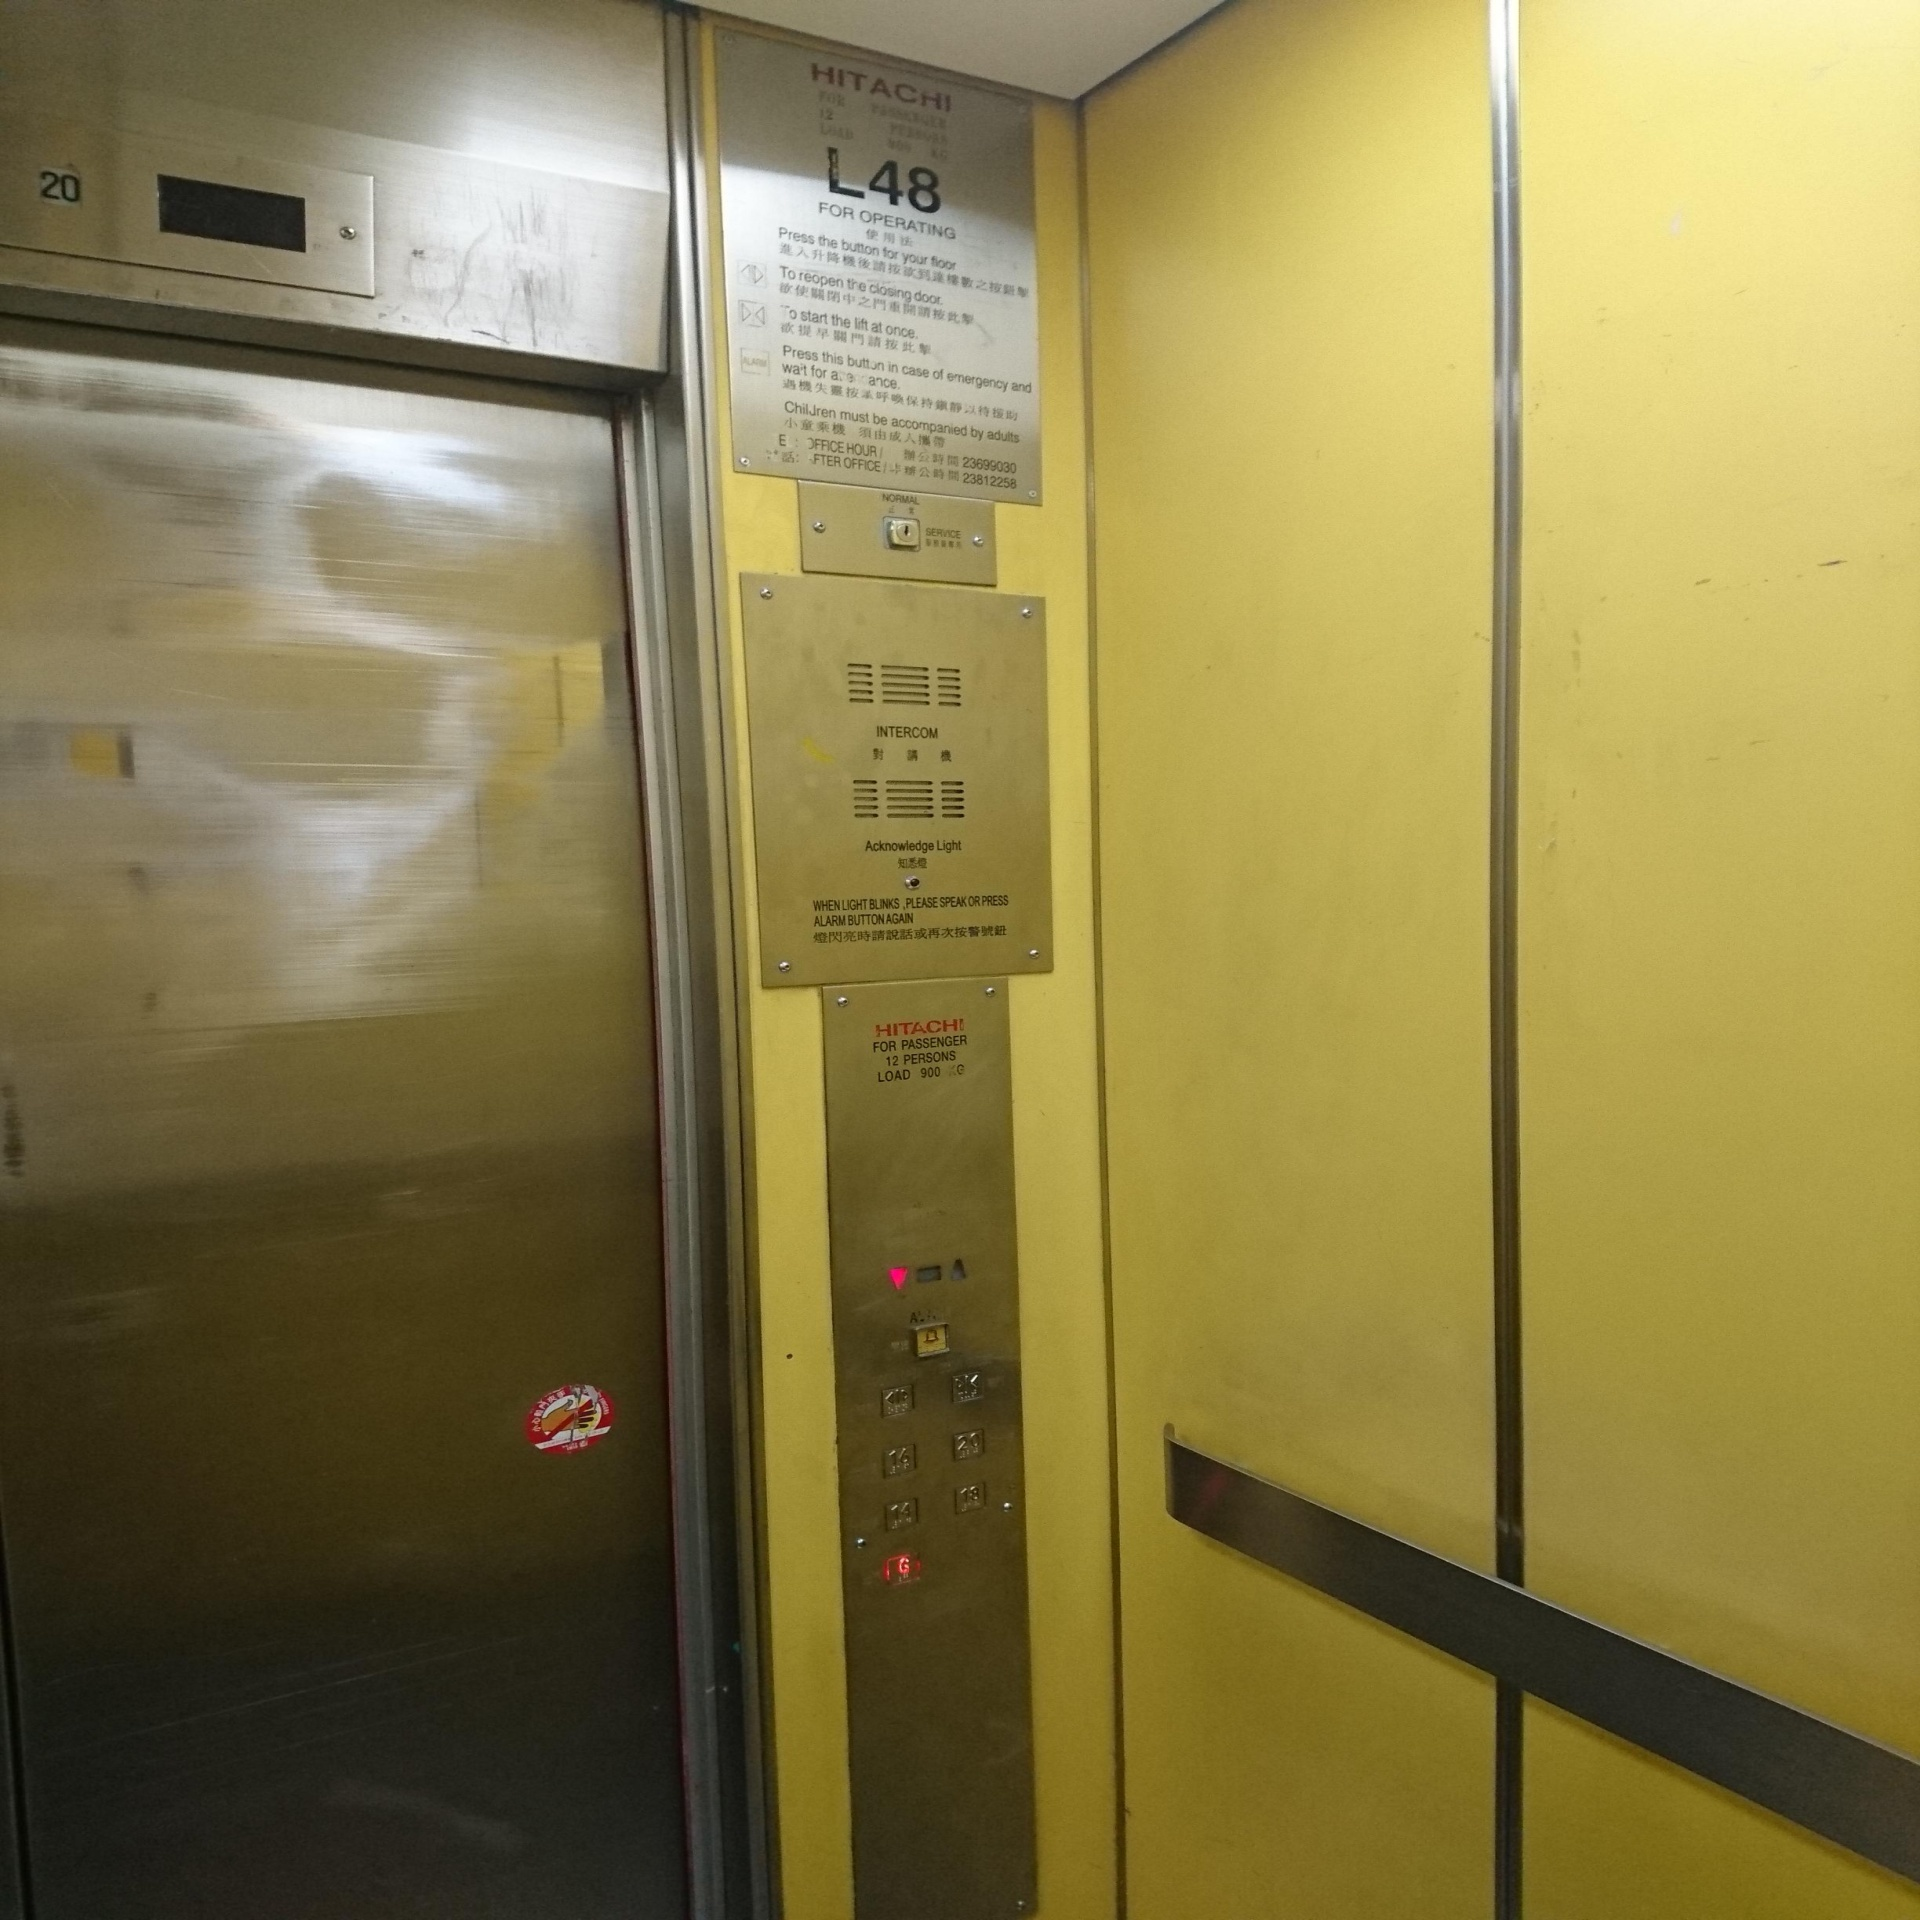14: (883, 1495, 921, 1533)
16: (879, 1440, 920, 1480)
18: (951, 1479, 990, 1517)
20: (949, 1426, 986, 1465)
G: (883, 1547, 925, 1589)
alarm: (911, 1319, 953, 1363)
close: (948, 1370, 986, 1407)
open: (877, 1380, 920, 1421)
